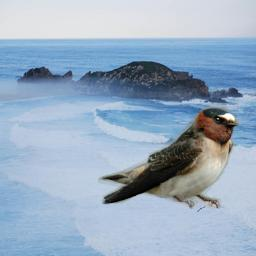Swallow: (98, 103, 244, 211)
